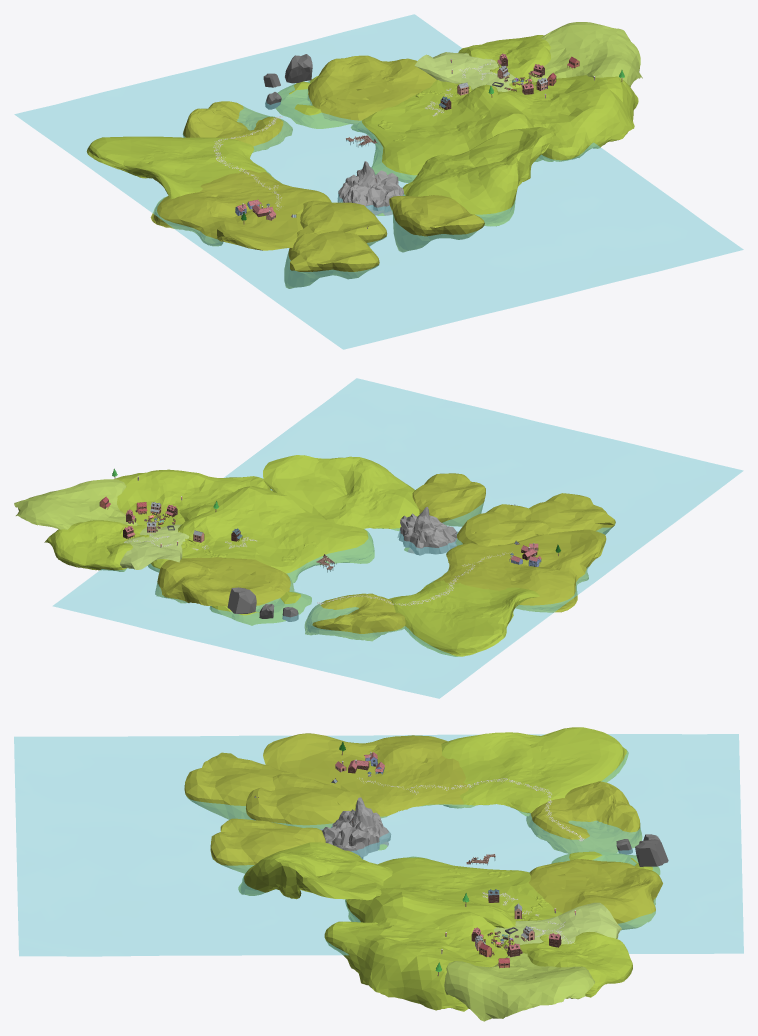
File: village.glb
The picture shows the model from 3 angles, top to bottom: view 1: azimuth 30°, elevation 25°; view 2: azimuth 150°, elevation 25°; view 3: azimuth 270°, elevation 25°; orthographic projection. The views are drawn at different scales.
Parts seen in each view (by area): view 1: water_001.001, hill_001.001, hill_005.001, hill_002.001, hill_011.001, hill_006.001, hill_009.001, hill_012.001, hill_004.002, hill_003.001, hill_007.001, hill_004.001 (+5 smaller); view 2: water_001.001, hill_001.001, hill_002.001, hill_005.001, hill_006.001, hill_009.001, hill_011.001, hill_012.001, hill_007.001, hill_011.002, hill_003.001, hill_004.001 (+5 smaller); view 3: water_001.001, hill_006.001, hill_005.001, hill_011.001, hill_001.001, hill_012.001, hill_002.001, hill_009.001, hill_007.001, hill_004.001, hill_004.002, hill_011.002 (+7 smaller).
Boxes of the visible parts, x1=… form: water_001.001: x1=14, y1=14, x2=743, y2=349; hill_001.001: x1=351, y1=80, x2=541, y2=183; hill_005.001: x1=150, y1=170, x2=331, y2=250; hill_002.001: x1=402, y1=127, x2=553, y2=226; hill_011.001: x1=497, y1=75, x2=638, y2=161; hill_006.001: x1=86, y1=136, x2=267, y2=199; hill_009.001: x1=307, y1=55, x2=436, y2=124; hill_012.001: x1=528, y1=22, x2=642, y2=86; hill_004.002: x1=284, y1=230, x2=379, y2=288; hill_003.001: x1=389, y1=195, x2=484, y2=252; hill_007.001: x1=183, y1=101, x2=292, y2=152; hill_004.001: x1=297, y1=200, x2=387, y2=246; water_001.001: x1=53, y1=378, x2=743, y2=698; hill_001.001: x1=148, y1=486, x2=374, y2=583; hill_002.001: x1=263, y1=455, x2=419, y2=530; hill_005.001: x1=431, y1=529, x2=606, y2=612; hill_006.001: x1=389, y1=580, x2=539, y2=656; hill_009.001: x1=155, y1=557, x2=294, y2=606; hill_011.001: x1=114, y1=469, x2=270, y2=526; hill_012.001: x1=14, y1=479, x2=138, y2=529; hill_007.001: x1=304, y1=593, x2=405, y2=641; hill_011.002: x1=44, y1=520, x2=162, y2=571; hill_003.001: x1=412, y1=473, x2=485, y2=526; hill_004.001: x1=456, y1=504, x2=550, y2=546; water_001.001: x1=14, y1=734, x2=743, y2=956; hill_006.001: x1=441, y1=727, x2=628, y2=816; hill_005.001: x1=263, y1=733, x2=475, y2=818; hill_011.001: x1=324, y1=911, x2=507, y2=1011; hill_001.001: x1=345, y1=856, x2=562, y2=928; hill_012.001: x1=444, y1=953, x2=594, y2=1021; hill_002.001: x1=238, y1=842, x2=392, y2=900; hill_009.001: x1=528, y1=859, x2=662, y2=930; hill_007.001: x1=526, y1=781, x2=642, y2=853; hill_004.001: x1=246, y1=773, x2=360, y2=829; hill_004.002: x1=184, y1=752, x2=298, y2=819; hill_011.002: x1=502, y1=932, x2=632, y2=997.
Bounding box in the file's own units: 693 × 74.51 × 742.
Materials: 2 (2 with a texture image).
